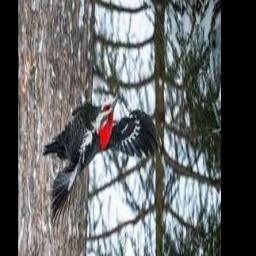Woodpecker: (44, 95, 162, 229)
